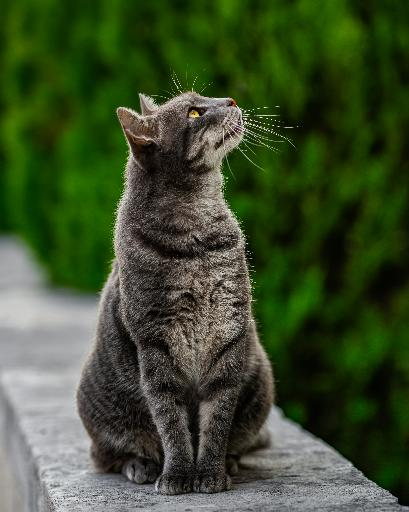cat_sitting: (77, 92, 273, 495)
